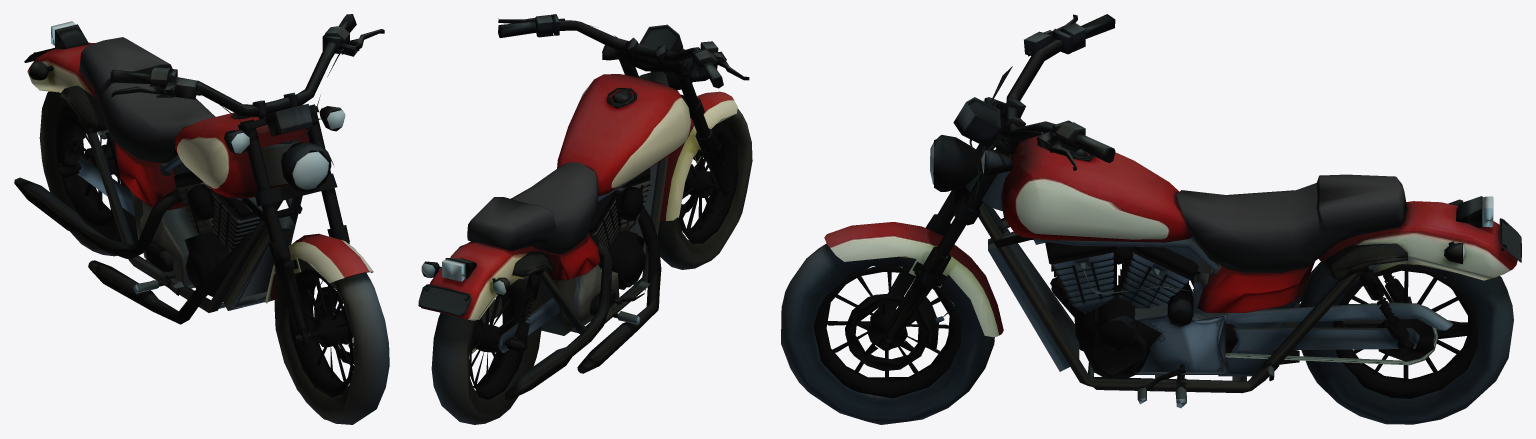
The model's file is motorcycle.glb.
3 renders of one model, left to right at view 1: azimuth 30°, elevation 25°; view 2: azimuth 150°, elevation 25°; view 3: azimuth 270°, elevation 25°, orthographic. The views are drawn at different scales.
Parts seen in each view (by area): view 1: motorcycle.1; view 2: motorcycle.1; view 3: motorcycle.1.
Part boxes in pixels (bbox=[...]): motorcycle.1: bbox=[14, 14, 389, 424]; motorcycle.1: bbox=[418, 14, 752, 424]; motorcycle.1: bbox=[781, 14, 1521, 424].
Bounding box in the file's own units: 0.478 × 0.519 × 1.
1 material, 1 textured.
